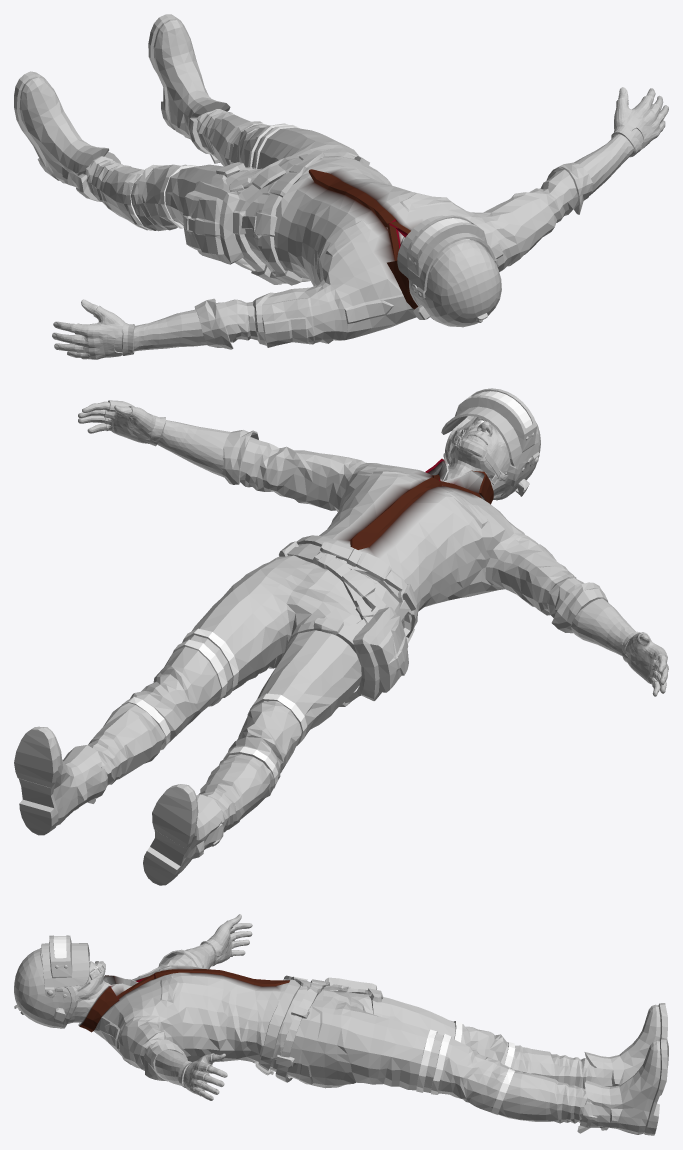
Rendered from pubgmale.obj.
The picture shows the model from 3 angles, top to bottom: view 1: azimuth 30°, elevation 25°; view 2: azimuth 150°, elevation 25°; view 3: azimuth 270°, elevation 25°; orthographic projection. The views are drawn at different scales.
Parts seen in each view (by area): view 1: Object.1; view 2: Object.1; view 3: Object.1.
Boxes of the visible parts, <box> form: Object.1: <box>14,14,668,359</box>; Object.1: <box>14,388,668,885</box>; Object.1: <box>14,914,668,1135</box>.
Bounding box in the file's own units: 108 × 36.71 × 124.
